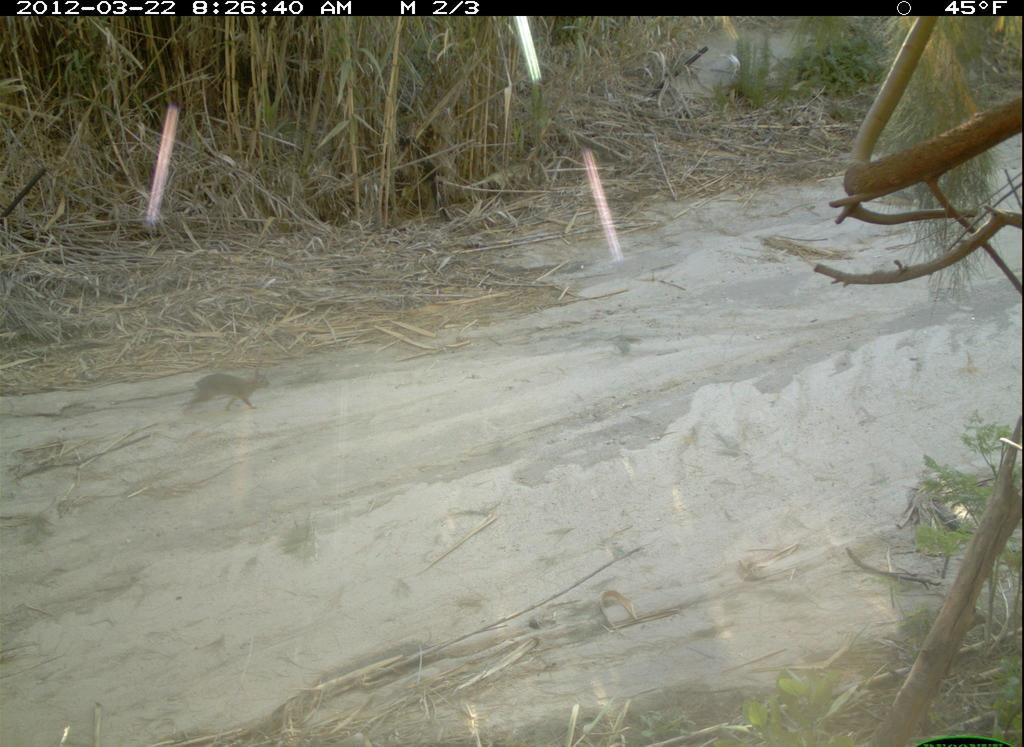rabbit: (177, 361, 281, 432)
